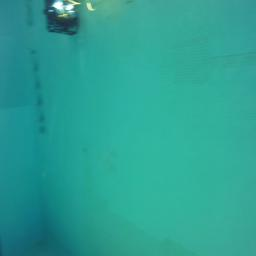back: (46, 7, 80, 35)
